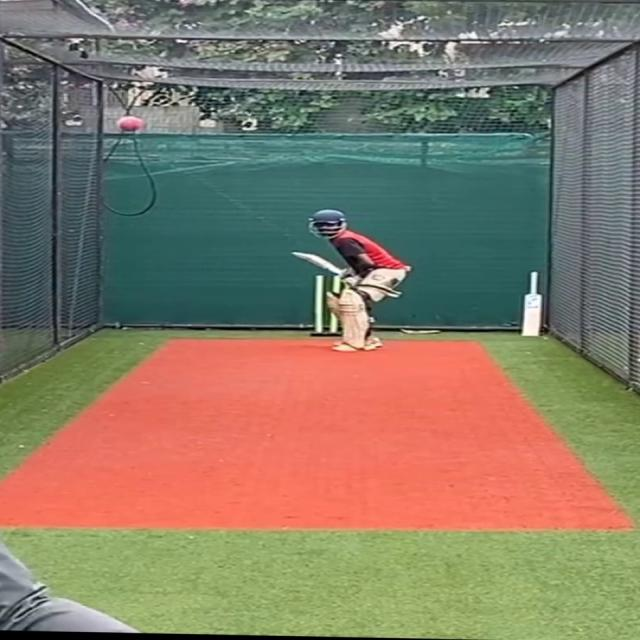ball: (112, 114, 144, 134)
stump: (308, 271, 339, 334)
